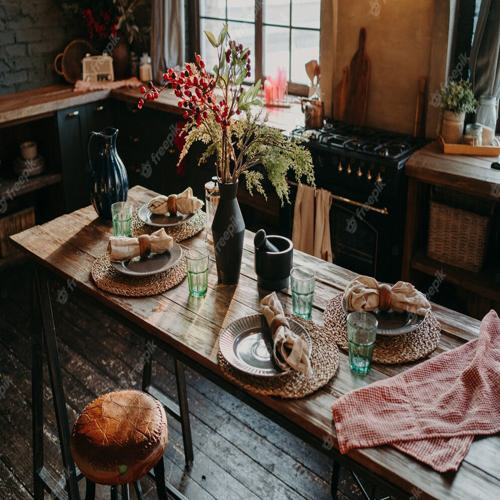vaso: (348, 315, 378, 377), (290, 266, 316, 316), (185, 251, 211, 300), (111, 201, 134, 244)
